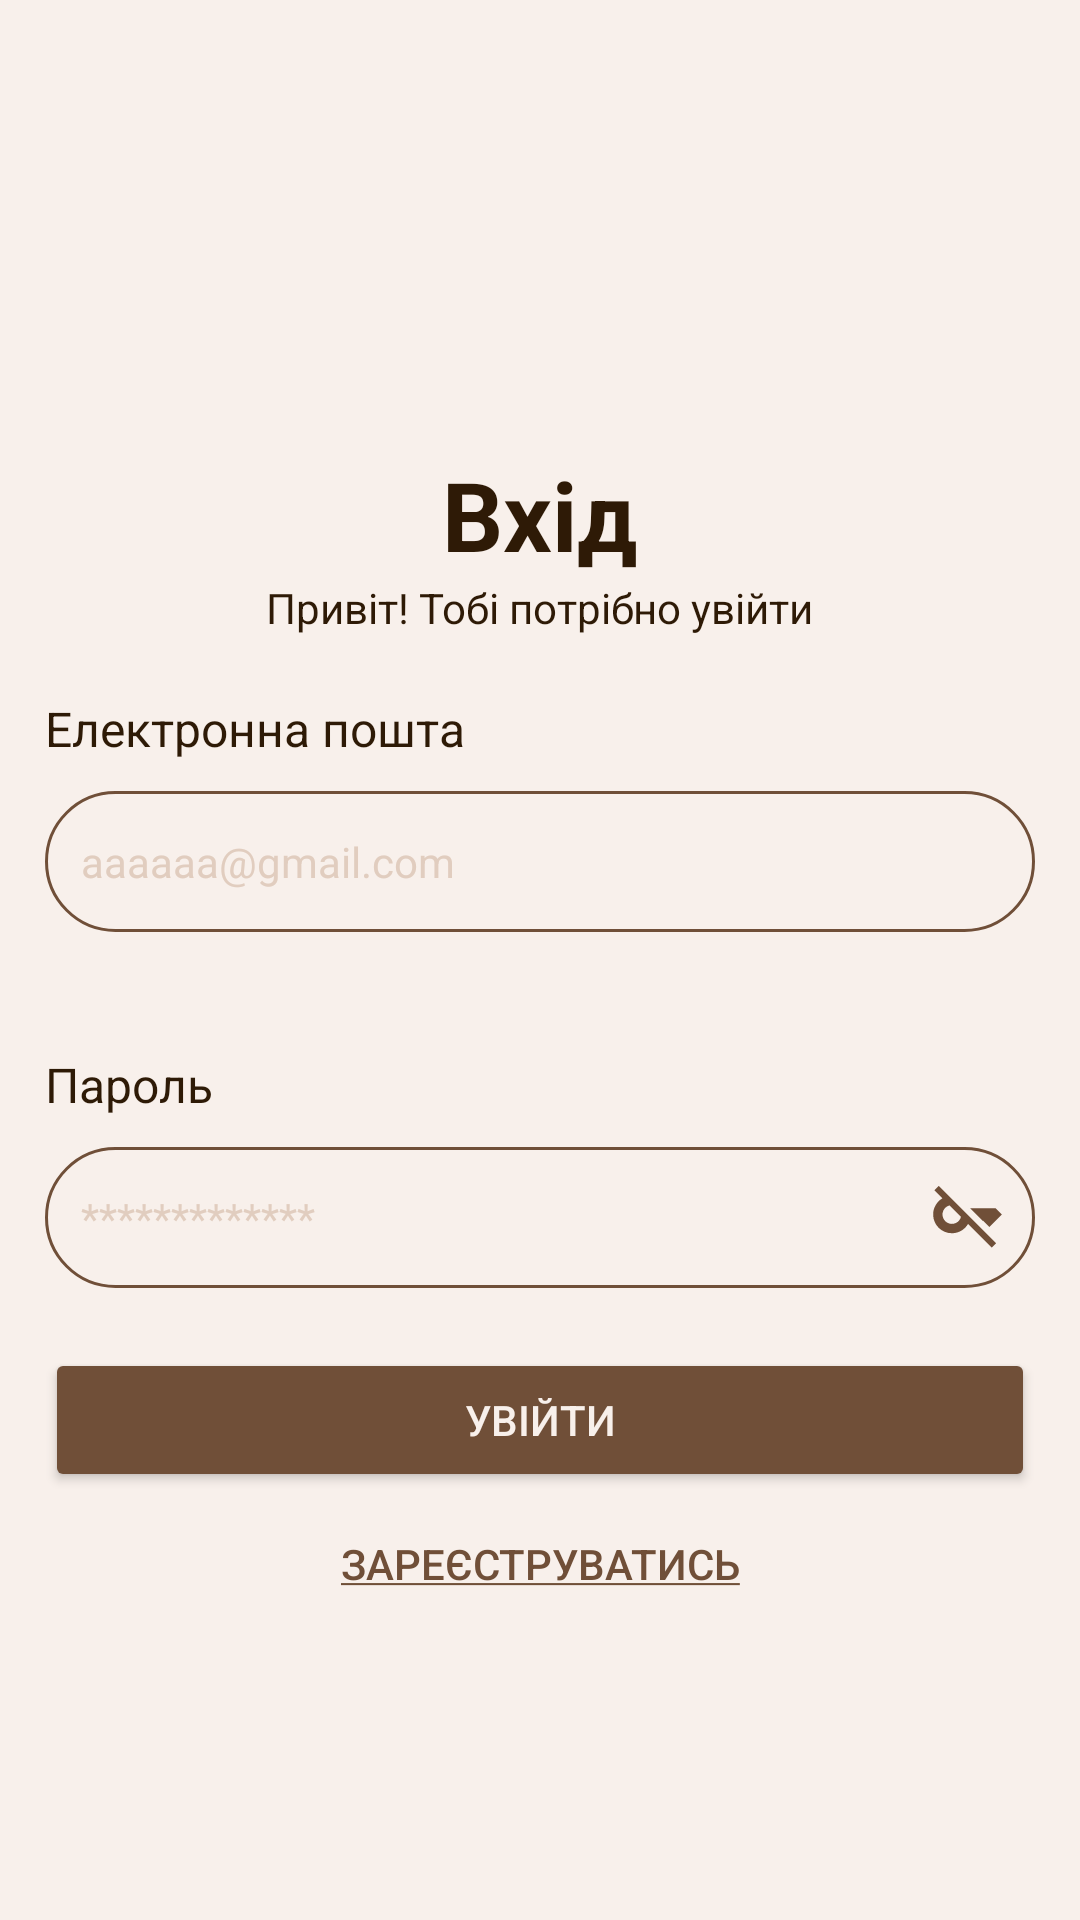

Locate icon controls on the screen. Image size 1080w x 1920h, boxes as (left=x1, top=y1, right=x2, bottom=y2).
key off: (left=933, top=1186, right=1002, bottom=1248)
